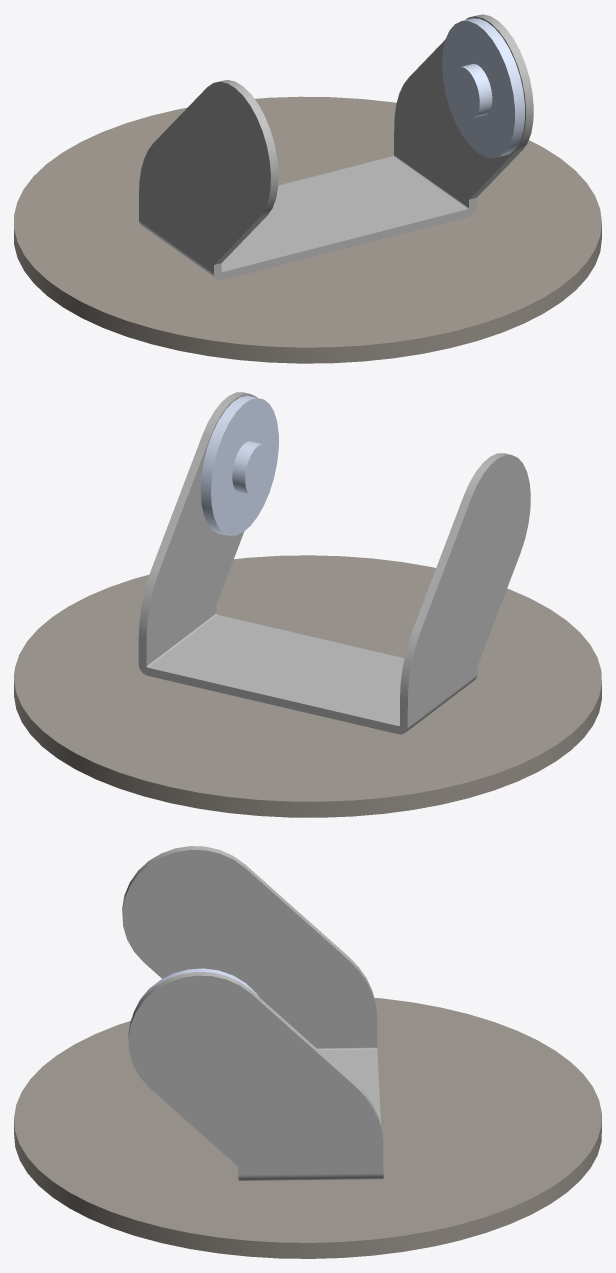
File: shoulderblade.dae
3 views of the same model, one above another, from view 1: azimuth 30°, elevation 25°; view 2: azimuth 150°, elevation 25°; view 3: azimuth 270°, elevation 25° (orthographic).
Parts seen in each view (by area): view 1: Actor0; view 2: Actor0; view 3: Actor0.
Part boxes in pixels (x1=…): Actor0: x1=14, y1=14, x2=601, y2=363; Actor0: x1=14, y1=392, x2=601, y2=817; Actor0: x1=14, y1=846, x2=601, y2=1258.
Size of the model in its own units: 0.1 by 0.0425 by 0.1.
